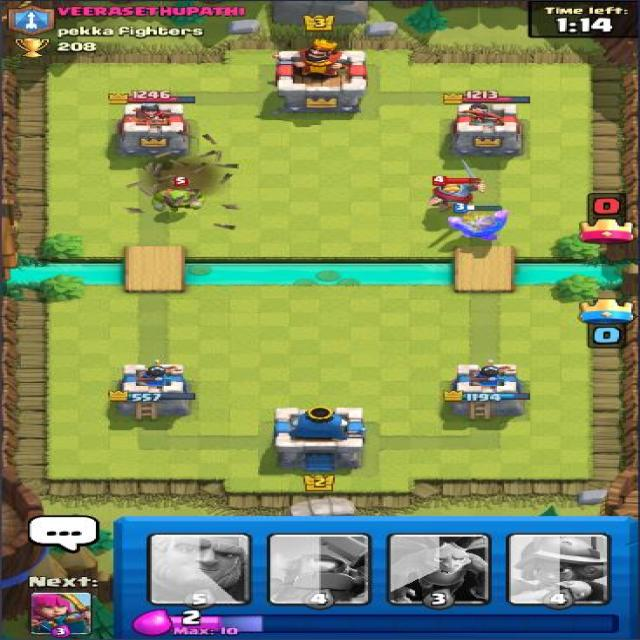Enemy-Brawler: (152, 175, 206, 216)
Enemy-Knight: (426, 156, 490, 214)
Player-Knight: (446, 202, 511, 242)
